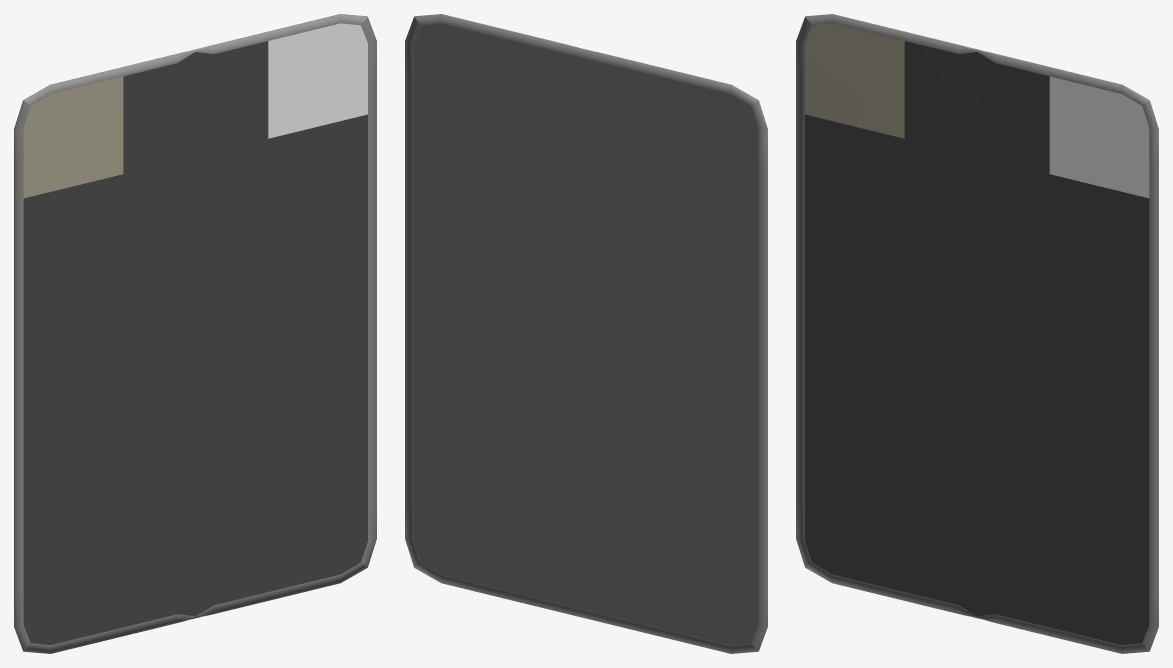
Rendered from animated_card 2.FBX.
3 views of the same model, side by side, from view 1: azimuth 30°, elevation 25°; view 2: azimuth 150°, elevation 25°; view 3: azimuth 330°, elevation 25° (orthographic).
Visible parts, largest first — view 1: Box001; view 2: Box001; view 3: Box001.
Part boxes in pixels (x1,y1,x2,y2): Box001: [14, 14, 376, 653]; Box001: [405, 14, 767, 653]; Box001: [796, 14, 1158, 653].
Size of the model in its own units: 30 by 0.1 by 45.
